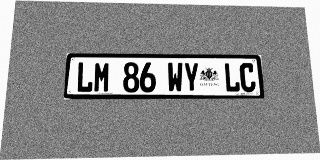6: (140, 62, 156, 92)
8: (123, 62, 139, 92)
C: (239, 63, 256, 92)
L: (76, 62, 94, 93), (224, 63, 240, 92)
M: (93, 62, 111, 92)
W: (167, 62, 183, 92)
Y: (183, 62, 200, 92)
